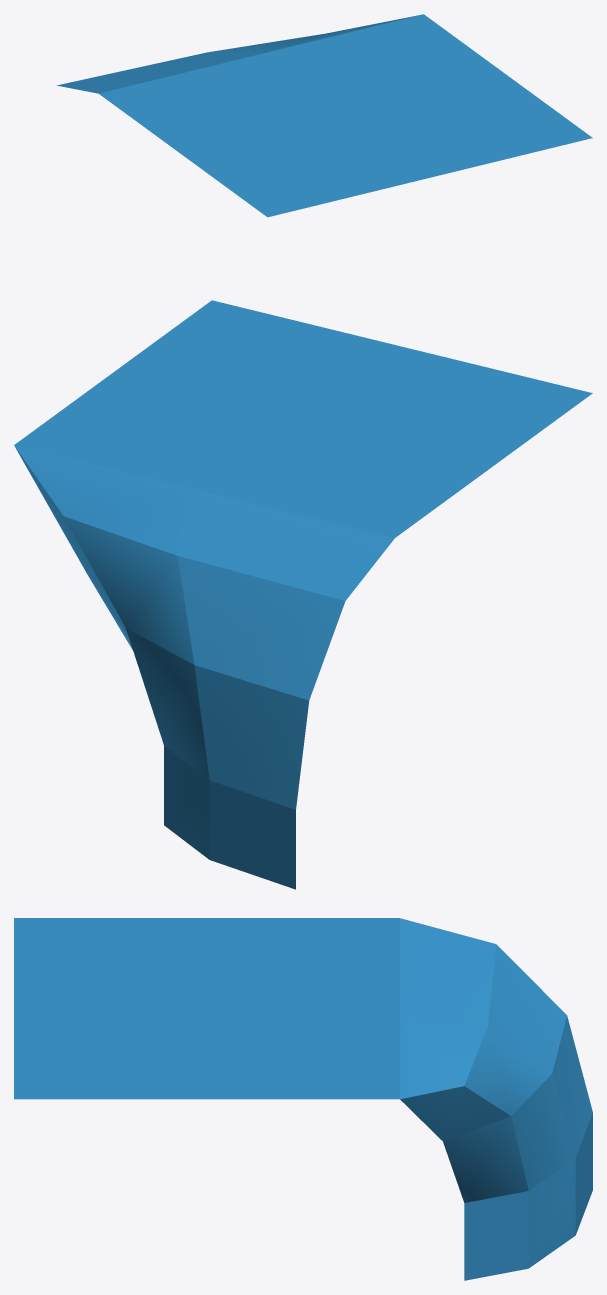
File: Waterfall_Water_Top_Edge.glb
3 views of the same model, one above another, from view 1: azimuth 30°, elevation 25°; view 2: azimuth 150°, elevation 25°; view 3: azimuth 270°, elevation 25° (orthographic). The views are drawn at different scales.
Visible parts, largest first — view 1: object1; view 2: object1; view 3: object1.
Boxes of the visible parts, box(x1,y1,x2,y2) form: object1: box(56, 14, 592, 217); object1: box(14, 300, 592, 889); object1: box(14, 918, 592, 1280).
Size of the model in its own units: 1 by 0.7 by 1.35.
